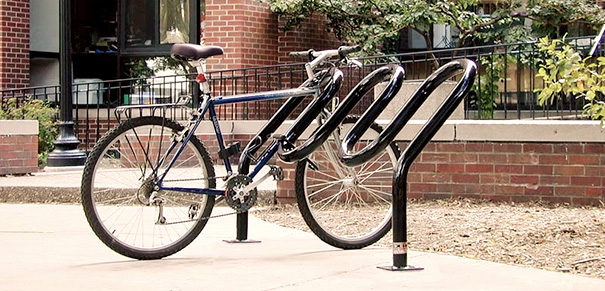Bicycle: (81, 40, 414, 254)
